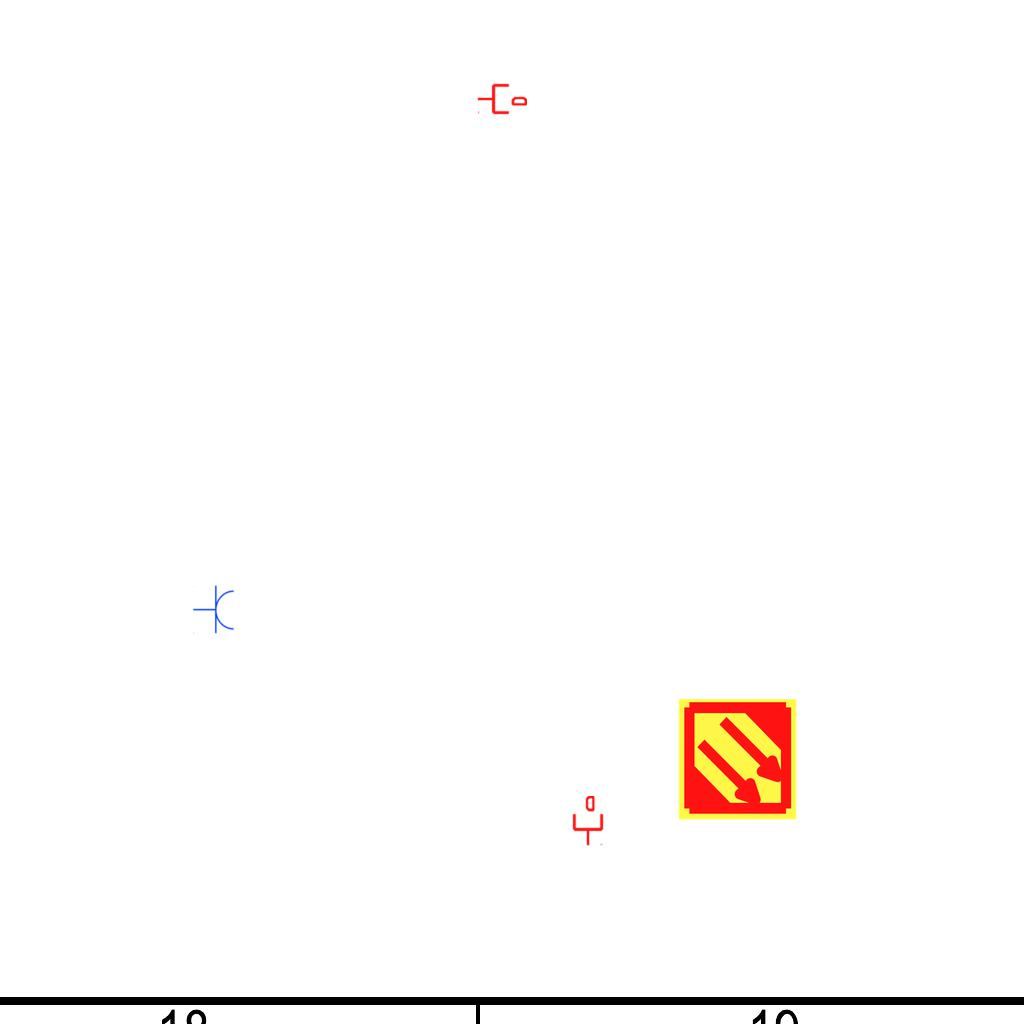ASR_Ansaugrauchmelder: (675, 697, 800, 822)
Datenanschluss_einfach: (477, 82, 527, 116), (571, 796, 605, 846)
Schukosteckdose_einfach: (193, 585, 236, 635)
